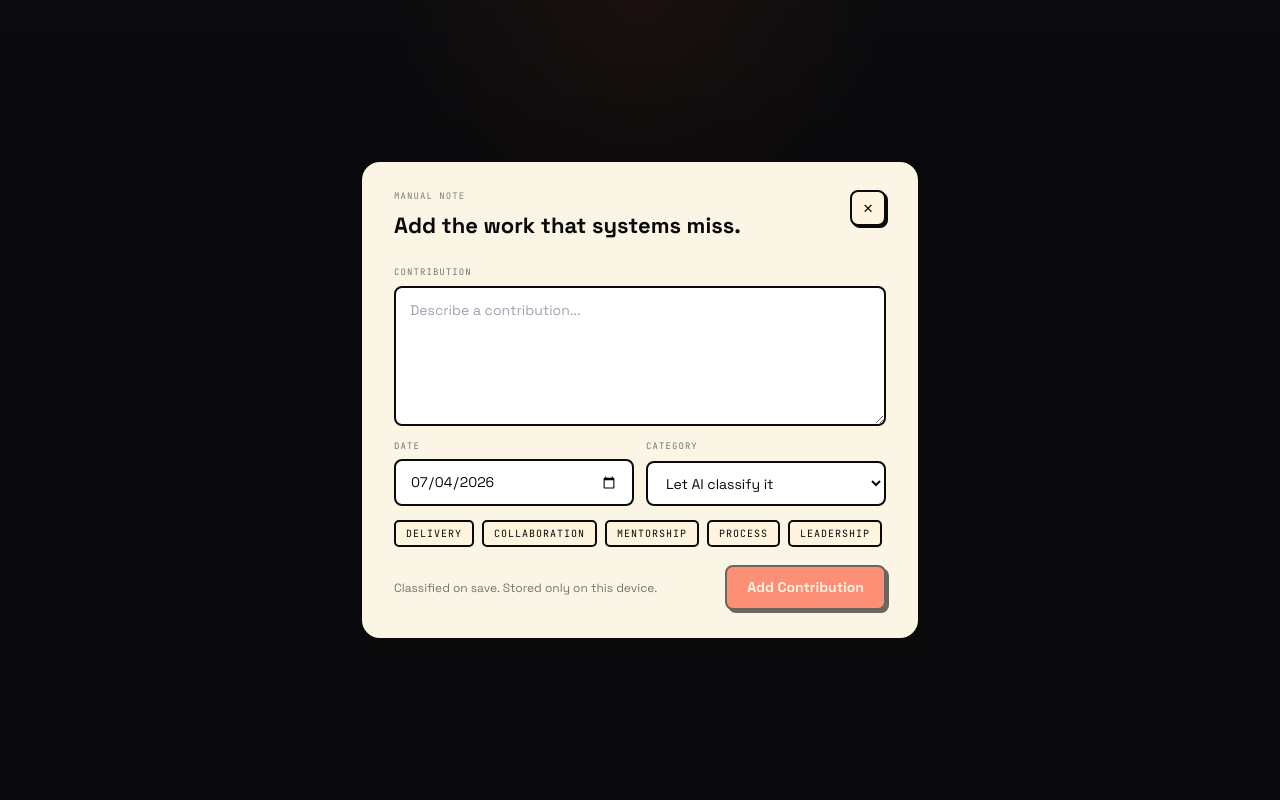
<ManualInputForm /> › enables submit once text is entered
The image size is (1280, 800).
Type "Shipped the auth migration." into the text box with placeholder "Describe a contribution...".
click(640, 356); type("Shipped the auth migration.")  # box [394,286,886,426]
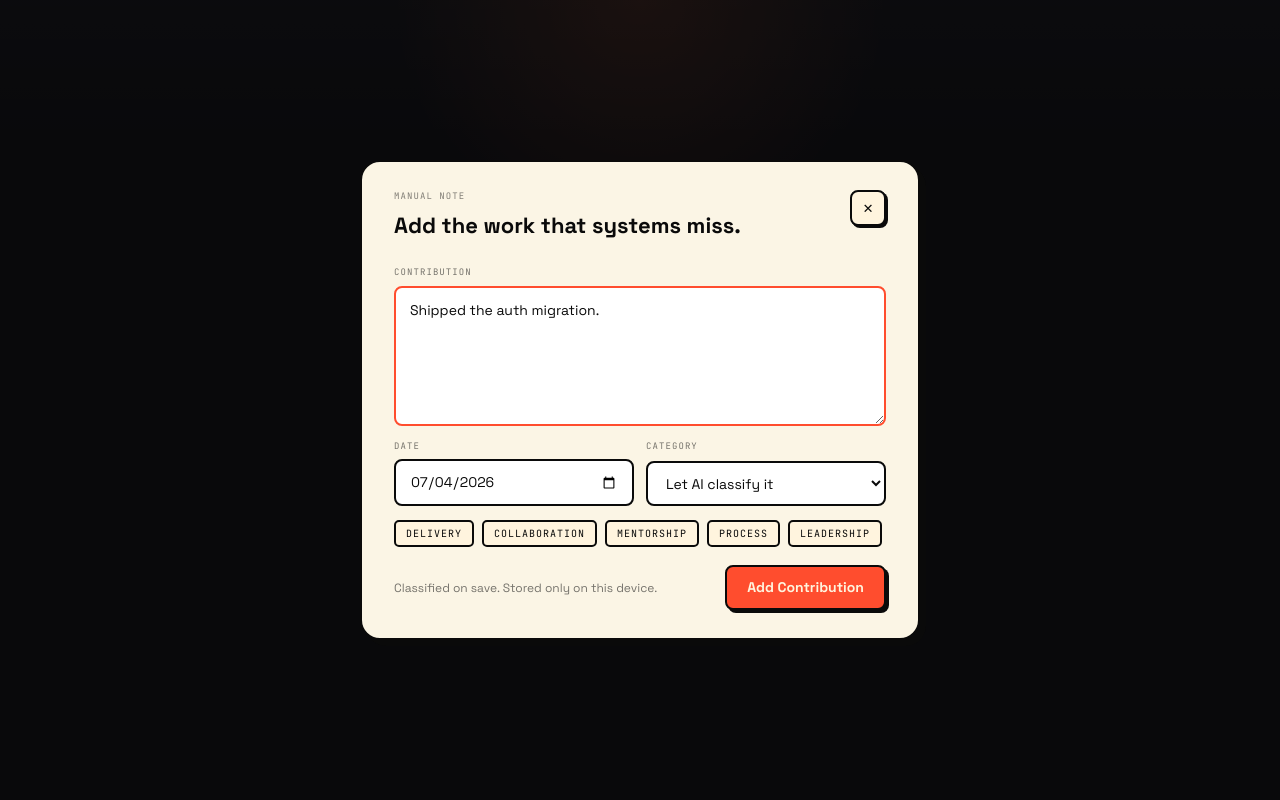
Expected: the button "Add Contribution" is enabled, [725,565,886,610]
